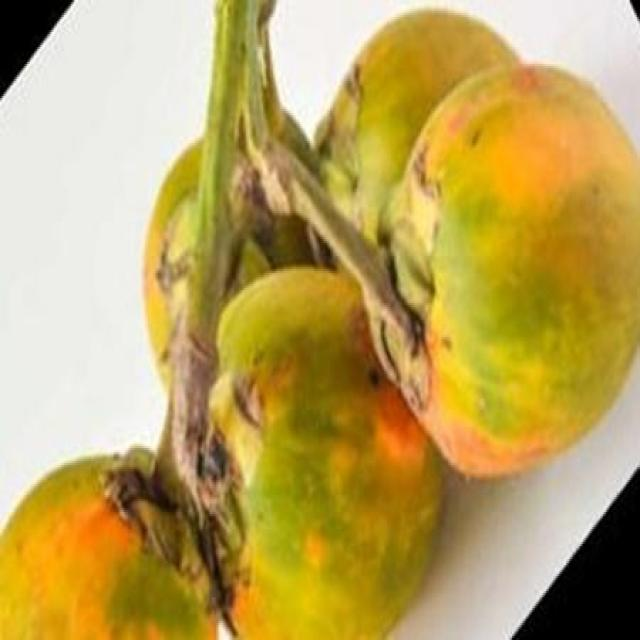good: (385, 60, 639, 484), (209, 267, 444, 638), (0, 450, 226, 638)
